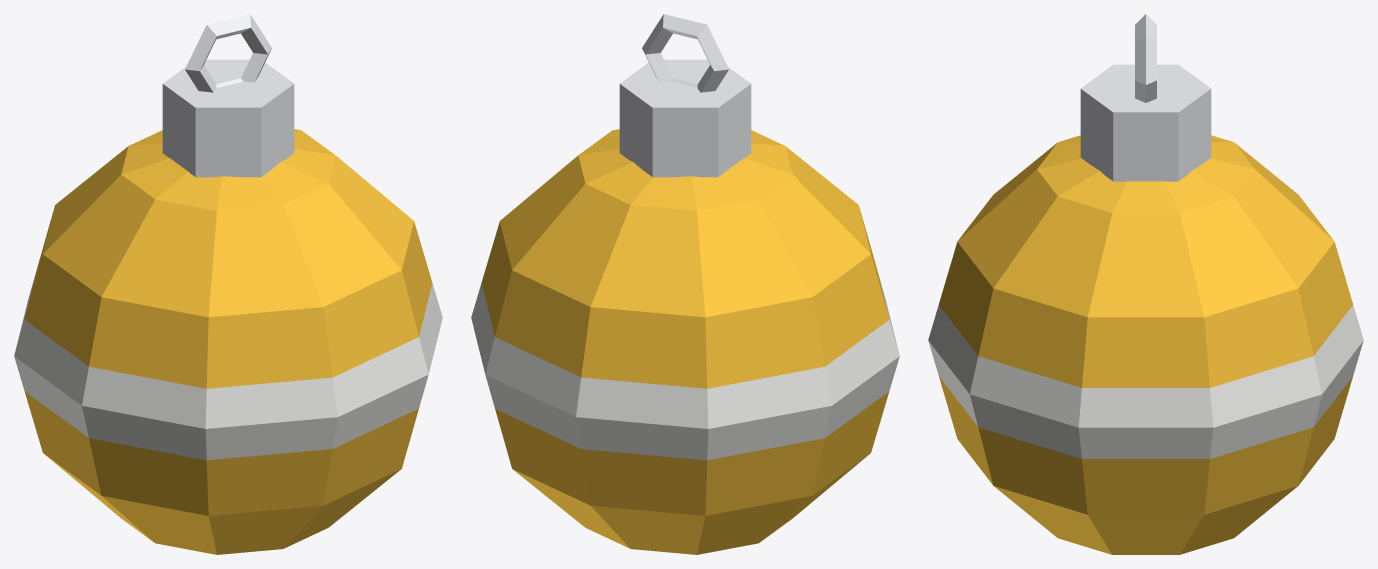
File: GoldOrnament.fbx
The picture shows the model from 3 angles, left to right: view 1: azimuth 30°, elevation 25°; view 2: azimuth 150°, elevation 25°; view 3: azimuth 270°, elevation 25°; orthographic projection.
Parts seen in each view (by area): view 1: GoldOrnament; view 2: GoldOrnament; view 3: GoldOrnament.
Boxes of the visible parts, <box> form: GoldOrnament: <box>14,14,442,554</box>; GoldOrnament: <box>471,14,899,554</box>; GoldOrnament: <box>928,14,1363,554</box>.
Bounding box in the file's own units: 1.9 × 2.6 × 2.
1 material, 1 textured.
